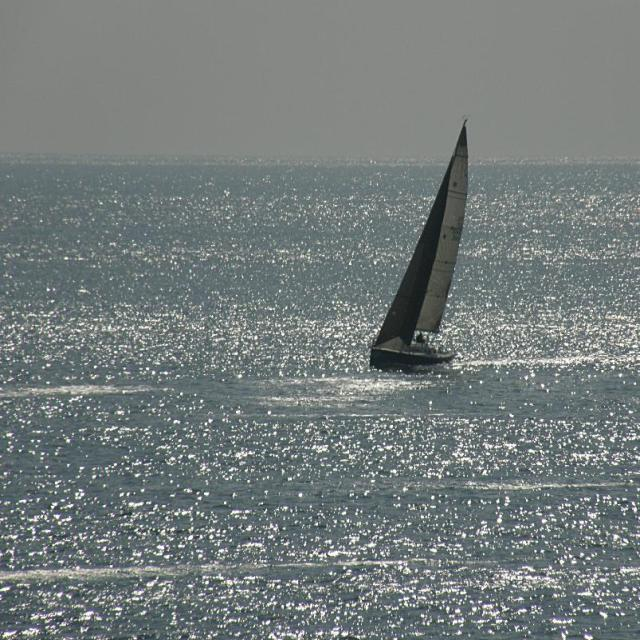Boat: (346, 156, 472, 368)
